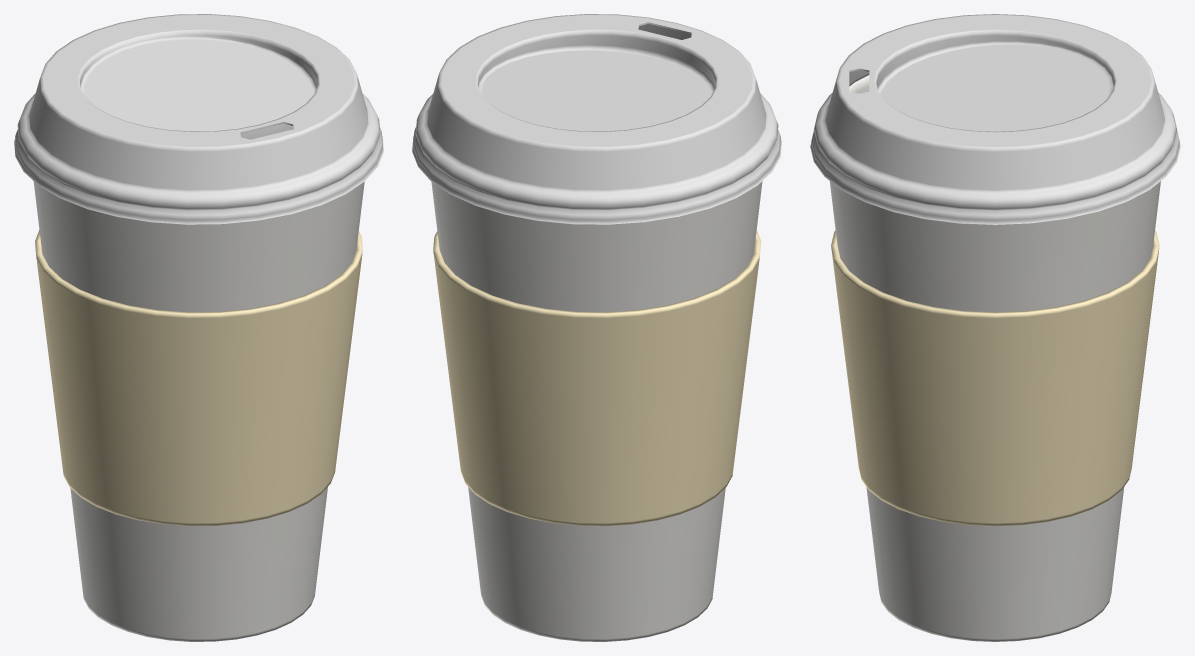
The model's file is coffee.glb.
3 renders of one model, left to right at view 1: azimuth 30°, elevation 25°; view 2: azimuth 150°, elevation 25°; view 3: azimuth 270°, elevation 25°, orthographic.
Parts seen in each view (by area): view 1: Object_9, Object_7, Object_5; view 2: Object_9, Object_7, Object_5; view 3: Object_9, Object_7, Object_5.
Boxes of the visible parts, x1=… form: Object_9: x1=35, y1=230, x2=362, y2=526; Object_7: x1=14, y1=14, x2=383, y2=224; Object_5: x1=33, y1=181, x2=364, y2=641; Object_9: x1=433, y1=230, x2=760, y2=526; Object_7: x1=412, y1=14, x2=781, y2=224; Object_5: x1=431, y1=181, x2=762, y2=641; Object_9: x1=831, y1=230, x2=1159, y2=526; Object_7: x1=810, y1=14, x2=1180, y2=225; Object_5: x1=829, y1=75, x2=1160, y2=641.
Bounding box in the file's own units: 0.0984 × 0.15 × 0.0984.
